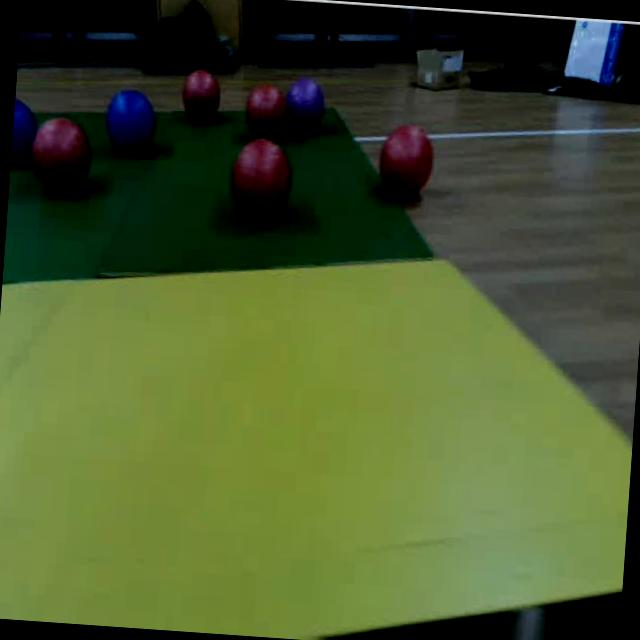blue_ball: (99, 85, 163, 163), (10, 94, 35, 170)
purple_ball: (284, 74, 328, 134)
red_ball: (223, 134, 292, 230), (372, 120, 438, 204), (31, 114, 92, 198), (240, 84, 288, 141), (178, 67, 224, 122)
